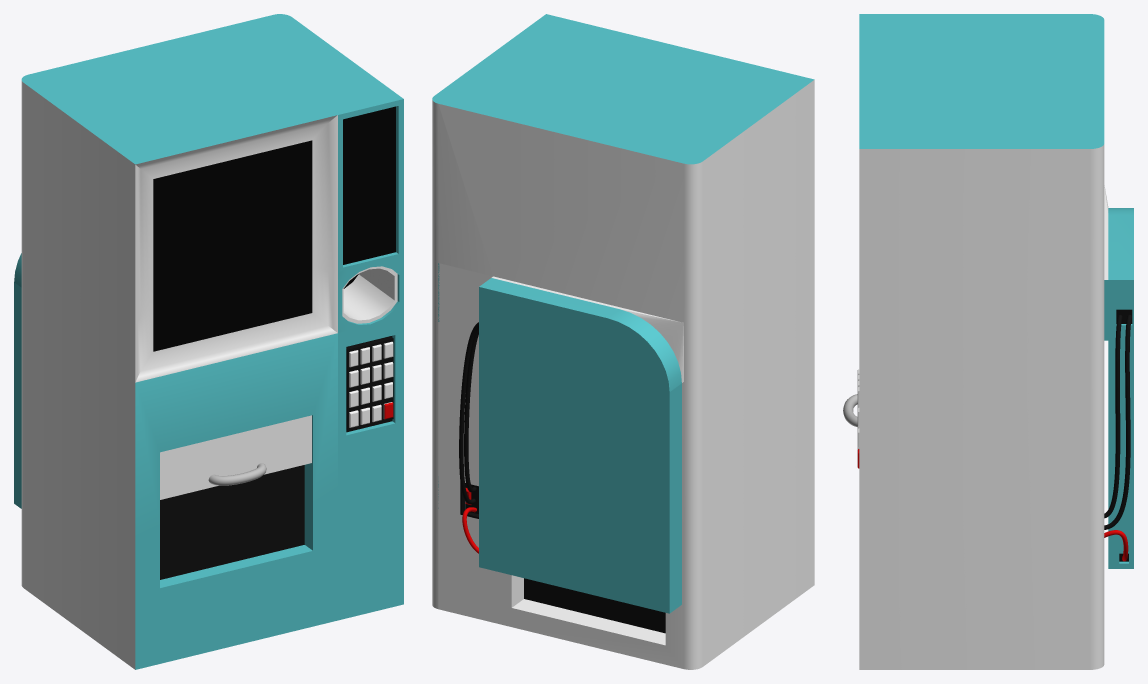
File: Vendingmachine.fbx
3 renders of one model, left to right at view 1: azimuth 30°, elevation 25°; view 2: azimuth 150°, elevation 25°; view 3: azimuth 270°, elevation 25°, orthographic. The views are drawn at different scales.
Parts seen in each view (by area): view 1: Plane, Plane.002, NurbsPath.003; view 2: Plane, NurbsPath.001, NurbsPath; view 3: Plane, NurbsPath.001, NurbsPath.
Part boxes in pixels (box(x1,y1,x2,y2)): Plane: box(14, 14, 403, 669); Plane.002: box(346, 336, 393, 430); NurbsPath.003: box(208, 463, 266, 485); Plane: box(432, 14, 814, 669); NurbsPath.001: box(459, 322, 478, 504); NurbsPath: box(464, 328, 478, 492); Plane: box(859, 14, 1133, 669); NurbsPath.001: box(1104, 315, 1131, 529); NurbsPath: box(1104, 315, 1122, 518).
Size of the model in its own units: 194 by 348 by 176.
